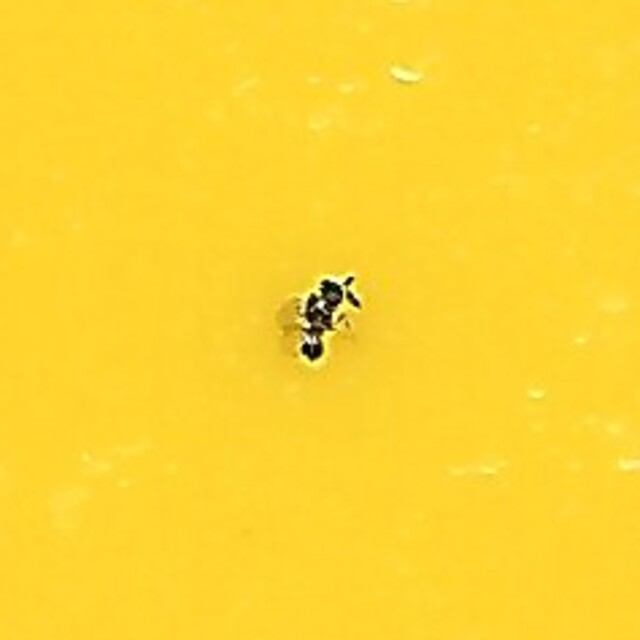Hymenoptera: (270, 269, 370, 371)
